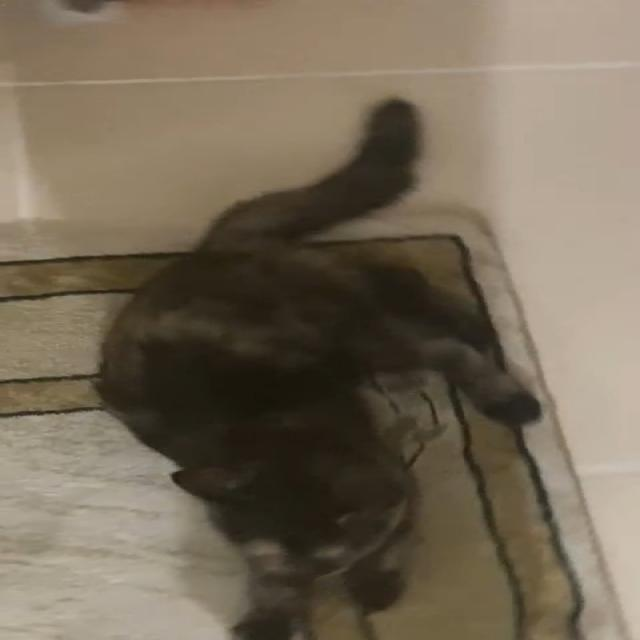authorized: (92, 94, 629, 638)
